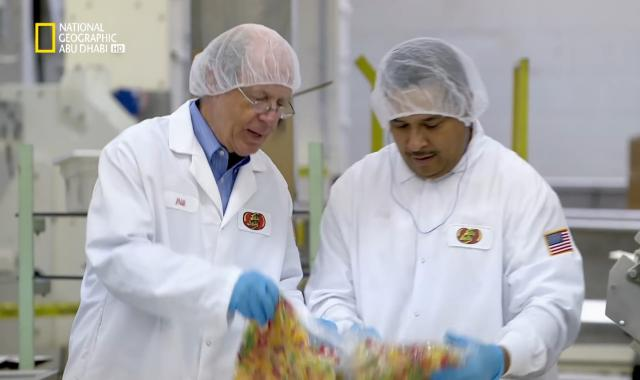hairnet: (370, 37, 490, 125), (189, 22, 303, 97)
